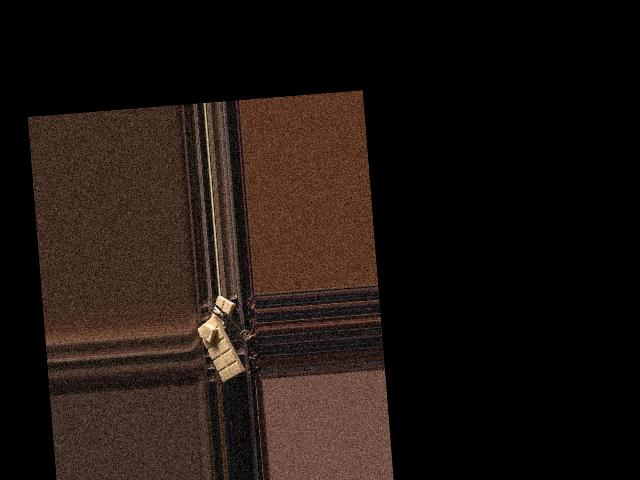chocolate: (196, 312, 244, 383)
